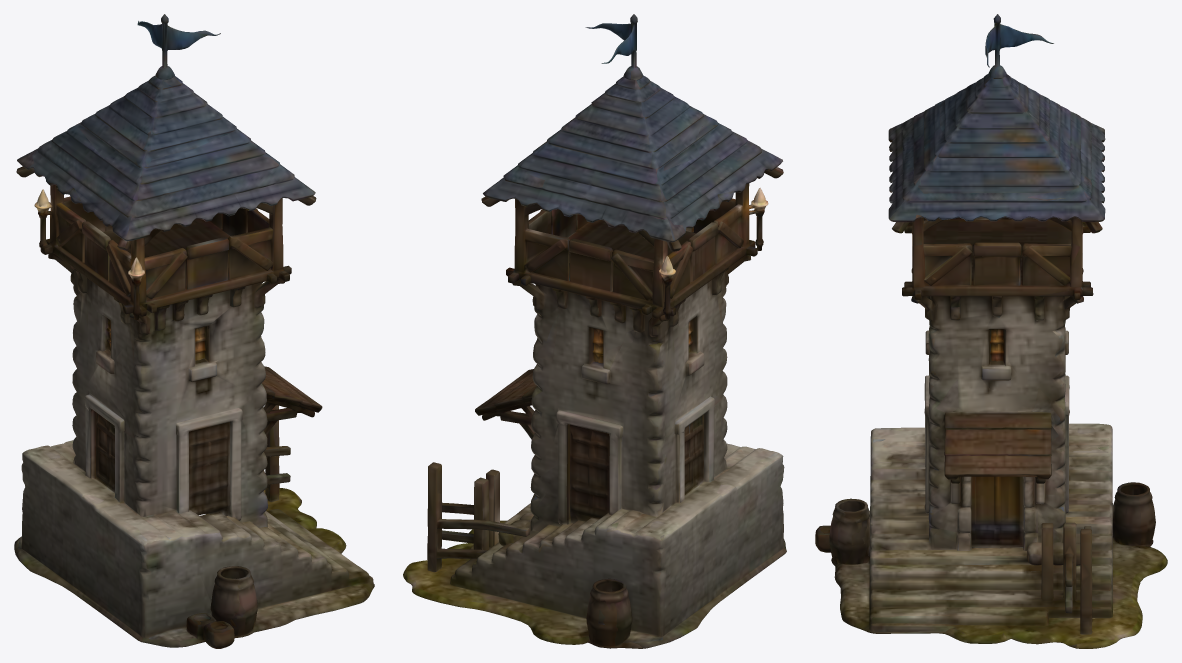
File: watchtower.glb
3 views of the same model, side by side, from view 1: azimuth 30°, elevation 25°; view 2: azimuth 150°, elevation 25°; view 3: azimuth 270°, elevation 25° (orthographic). The views are drawn at different scales.
Parts seen in each view (by area): view 1: material; view 2: material; view 3: material.
Part boxes in pixels (<box>): material: <box>14,14,374,648</box>; material: <box>403,14,786,648</box>; material: <box>815,14,1167,648</box>.
Bounding box in the file's own units: 0.5213 × 1.01 × 0.585.
Materials: 1 (1 with a texture image).
